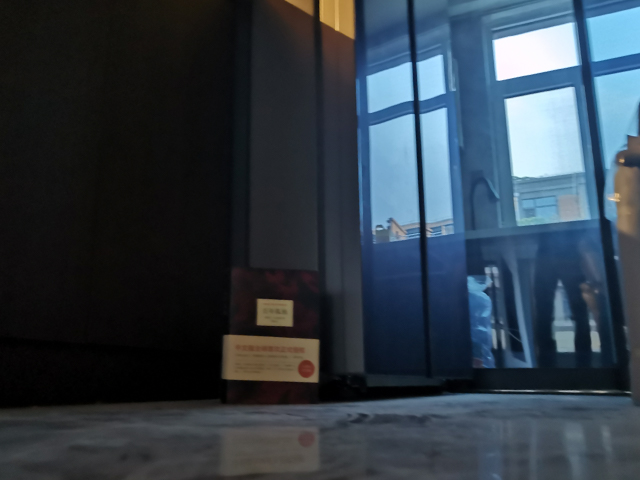book: (216, 263, 329, 406)
